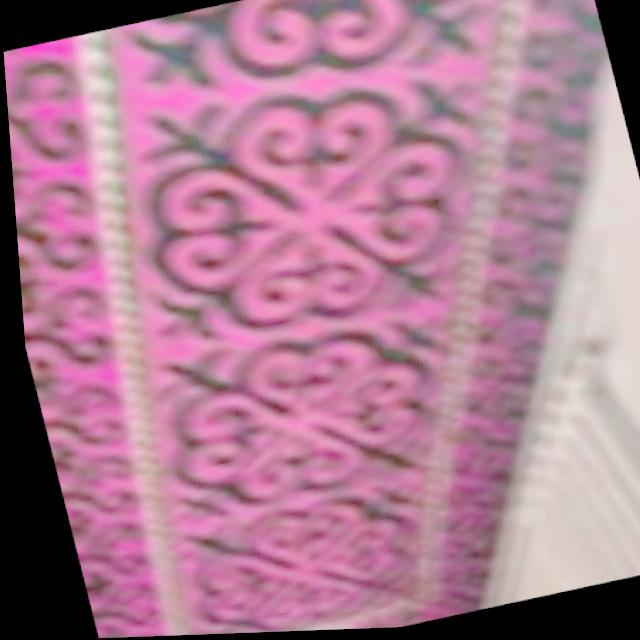Unity: (130, 63, 488, 351), (153, 307, 448, 524)
